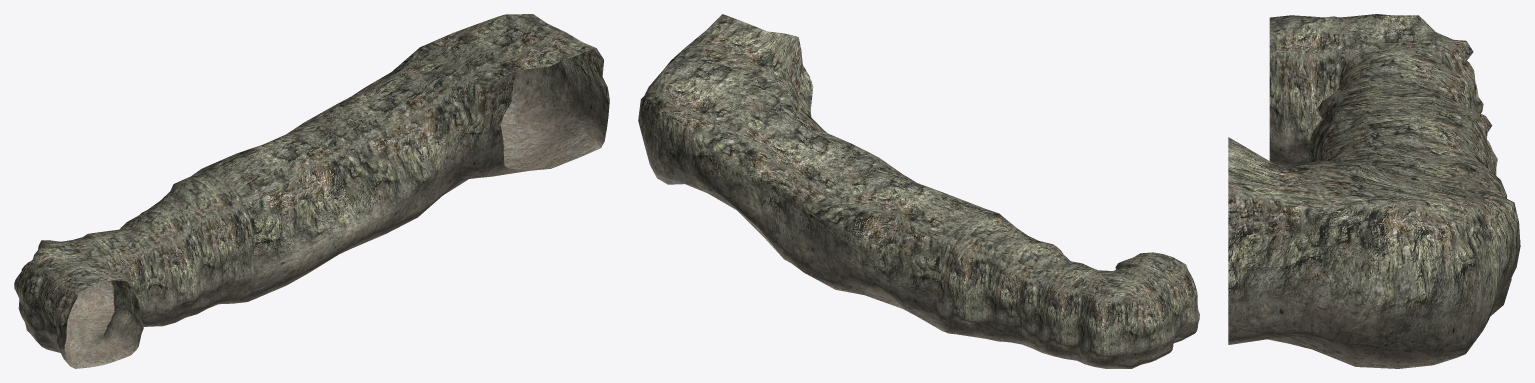
The model's file is poi_all_bunker_mad_bio_s01_r3_hall2_mesh_r3.fbx.
3 views of the same model, side by side, from view 1: azimuth 30°, elevation 25°; view 2: azimuth 150°, elevation 25°; view 3: azimuth 270°, elevation 25° (orthographic). The views are drawn at different scales.
Visible parts, largest first — view 1: mesh_node; view 2: mesh_node; view 3: mesh_node.
Part boxes in pixels (box(x1,y1,x2,y2)): mesh_node: box(14, 14, 609, 368); mesh_node: box(638, 14, 1199, 368); mesh_node: box(1228, 14, 1520, 368).
Bounding box in the file's own units: 46.03 × 17.18 × 14.19.
